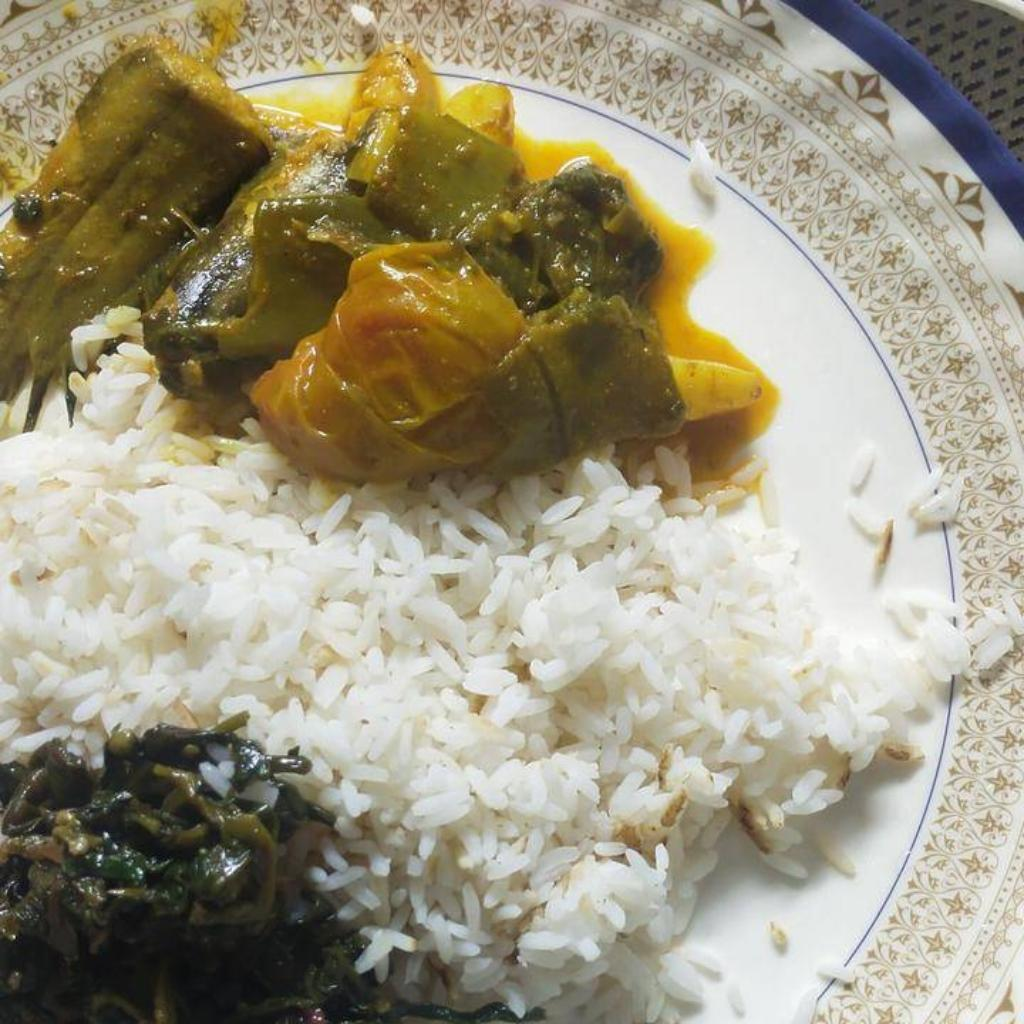fish: (0, 40, 765, 477)
rice: (0, 371, 1023, 1017)
shak: (3, 733, 461, 1019)
